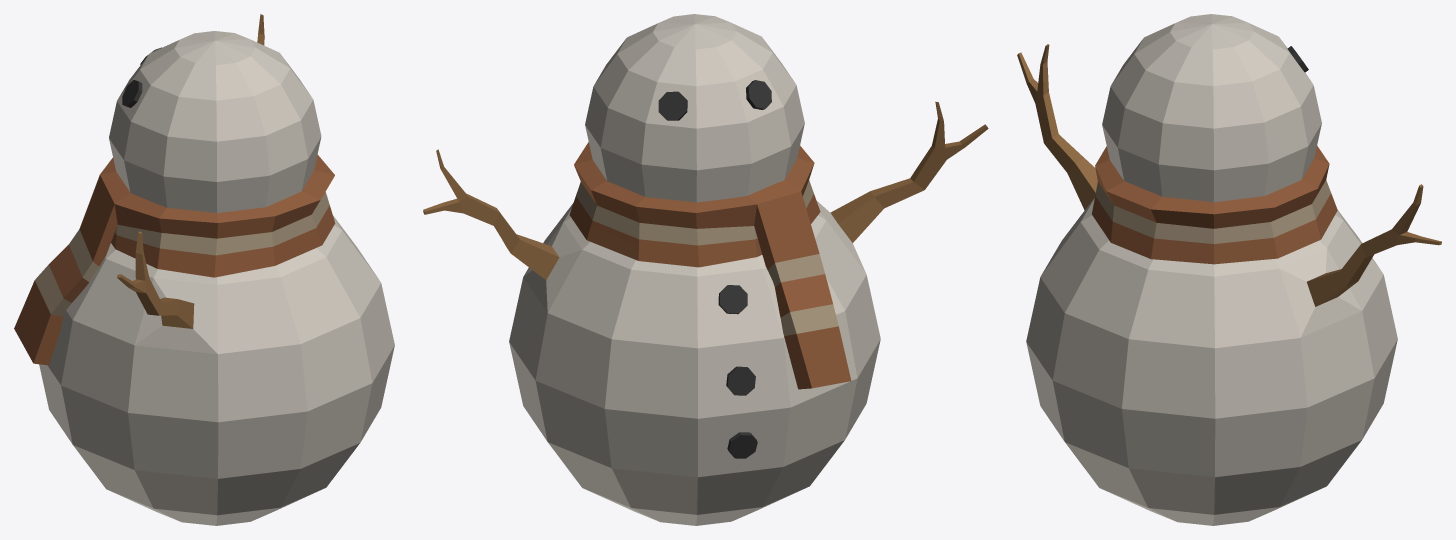
Rendered from SnowMan.fbx.
The picture shows the model from 3 angles, left to right: view 1: azimuth 30°, elevation 25°; view 2: azimuth 150°, elevation 25°; view 3: azimuth 270°, elevation 25°; orthographic projection. The views are drawn at different scales.
Parts seen in each view (by area): view 1: SnowMan; view 2: SnowMan; view 3: SnowMan.
Boxes of the visible parts, x1,y1,x2,y2 form: SnowMan: (14, 14, 394, 525); SnowMan: (423, 14, 988, 525); SnowMan: (1017, 14, 1441, 525).
Bounding box in the file's own units: 1.29 × 1.33 × 1.67.
